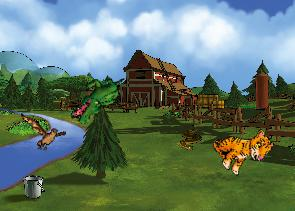crocodile: (68, 64, 126, 133)
eagle: (18, 113, 67, 152)
tiger: (207, 113, 277, 182)
